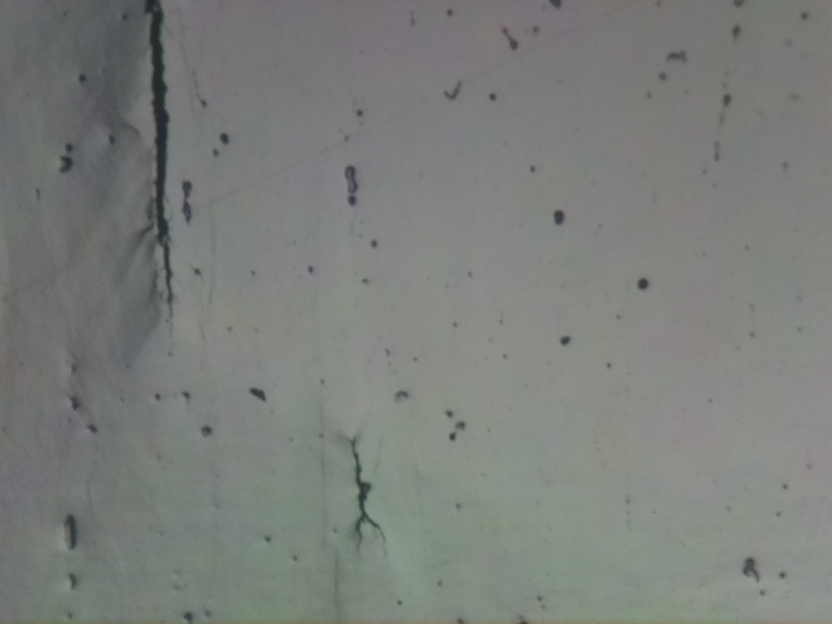crack: (146, 0, 174, 313), (343, 432, 385, 547)
